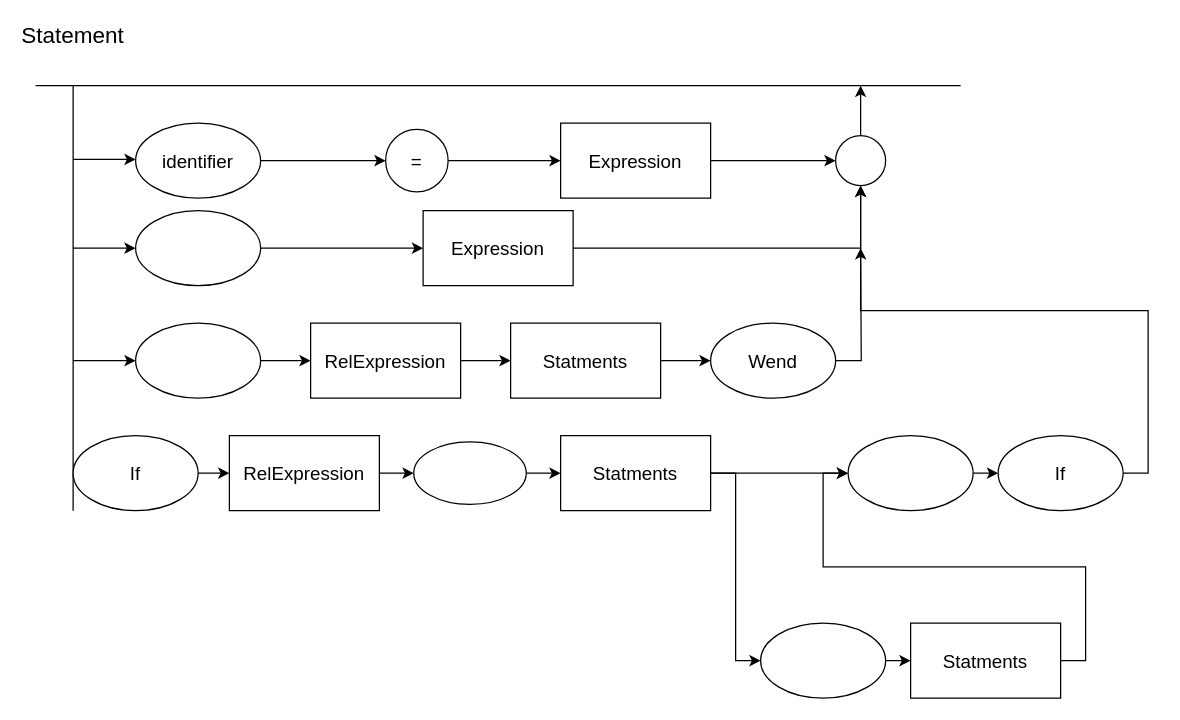
The diagram is 1180 pixels wide and 720 high, and some of its shapes have lost their labels. Each missing label, with the centre of its shape:
\n: the point at 860,160
Else: the point at 822,660
End: the point at 910,472
print: the point at 197,247
Then: the point at 469,472
While: the point at 197,360
